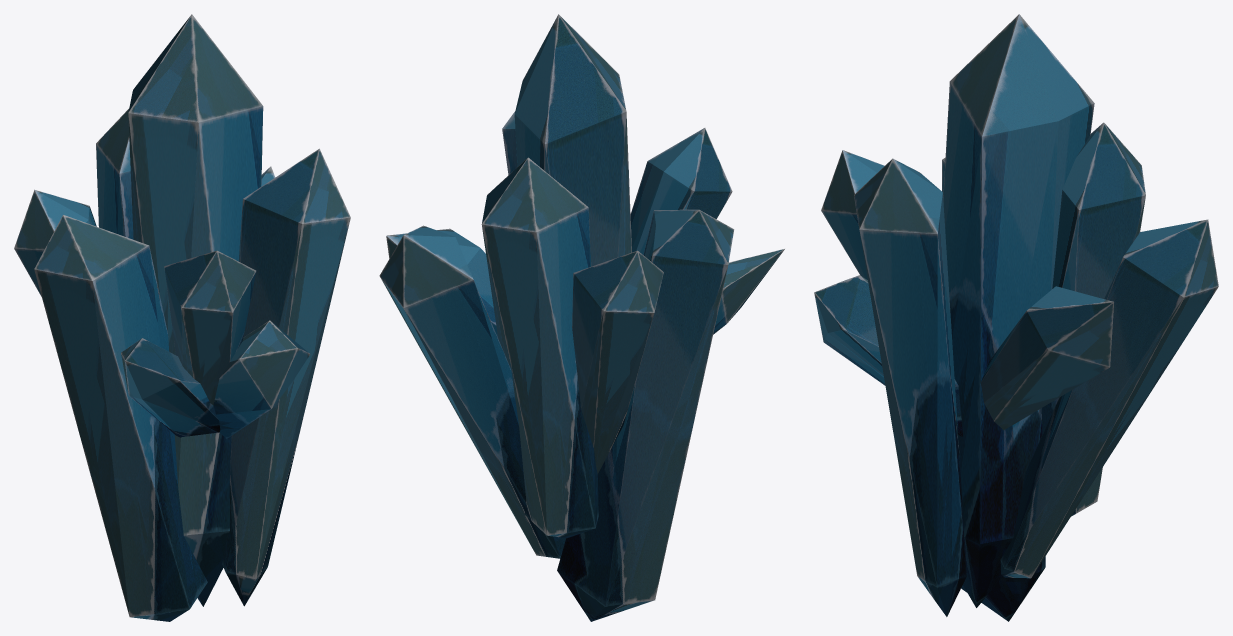
Rendered from asteroid6.glb.
The picture shows the model from 3 angles, left to right: view 1: azimuth 30°, elevation 25°; view 2: azimuth 150°, elevation 25°; view 3: azimuth 270°, elevation 25°; orthographic projection. The views are drawn at different scales.
Parts seen in each view (by area): view 1: Object_3; view 2: Object_3; view 3: Object_3.
Boxes of the visible parts, x1=… form: Object_3: x1=14, y1=14, x2=350, y2=621; Object_3: x1=379, y1=14, x2=784, y2=621; Object_3: x1=814, y1=14, x2=1218, y2=621.
Bounding box in the file's own units: 3.13 × 6.21 × 3.67.
Materials: 1 (1 with a texture image).
